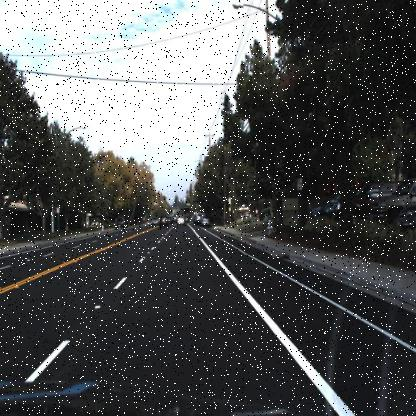car: (331, 183, 381, 224), (305, 197, 330, 225), (113, 212, 127, 235), (156, 210, 170, 226), (201, 212, 214, 228)
